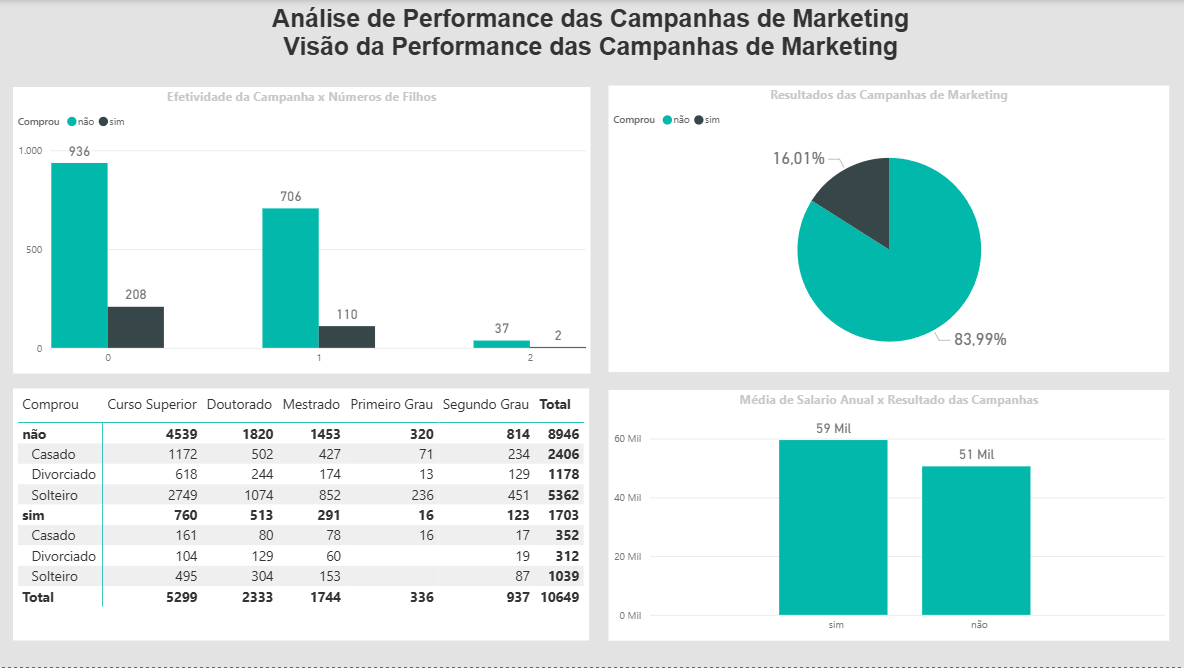

What the dashboard file says about the page in this screenshot:
{"tool":"powerbi","page":{"name":"Visão Campanha","canvas":[1280,720],"ordinal":2},"visuals":[{"type":"textbox","box":[0,0,1279.4,90.7],"z":0},{"type":"pieChart","title":"Resultados das Campanhas de Marketing","fields":{"Category":["Dados_Marketing.Comprou"],"Y":["CountNonNull(Dados_Marketing.ID)"]},"box":[659,92.3,605.6,309.3],"z":1000},{"type":"columnChart","title":"Média de Salario Anual x Resultado das Campanhas","fields":{"Category":["Dados_Marketing.Comprou"],"Y":["Avg(Dados_Marketing.Salario Anual)"]},"box":[659,421,605.6,270.4],"z":2000},{"type":"pivotTable","fields":{"Rows":["Dados_Marketing.Comprou","Dados_Marketing.Estado Civil","Dados_Marketing.Pais"],"Values":["Sum(Dados_Marketing.Numero Visitas WebSite Mes)"],"Columns":["Dados_Marketing.Escolaridade"]},"box":[16.2,419.4,621.8,272],"z":3000},{"type":"clusteredColumnChart","title":"Efetividade da Campanha x Números de Filhos","fields":{"Category":["Dados_Marketing.Filhos em Casa"],"Series":["Dados_Marketing.Comprou"],"Y":["CountNonNull(Dados_Marketing.Filhos em Casa)"]},"box":[16.2,93.9,623.4,309.3],"z":4000}]}

Visuals, with their boxes in screenshot pixels (x1, y1, x2, y2), scaled from the page's 1280x720 canvas onto the 1184x668 screenshot:
textbox: x1=0 y1=0 x2=1183 y2=84
"Resultados das Campanhas de Marketing" pieChart: x1=610 y1=86 x2=1170 y2=373
"Média de Salario Anual x Resultado das Campanhas" columnChart: x1=610 y1=391 x2=1170 y2=641
pivotTable - Dados_Marketing.Comprou x Dados_Marketing.Estado Civil: x1=15 y1=389 x2=590 y2=641
"Efetividade da Campanha x Números de Filhos" clusteredColumnChart: x1=15 y1=87 x2=592 y2=374
